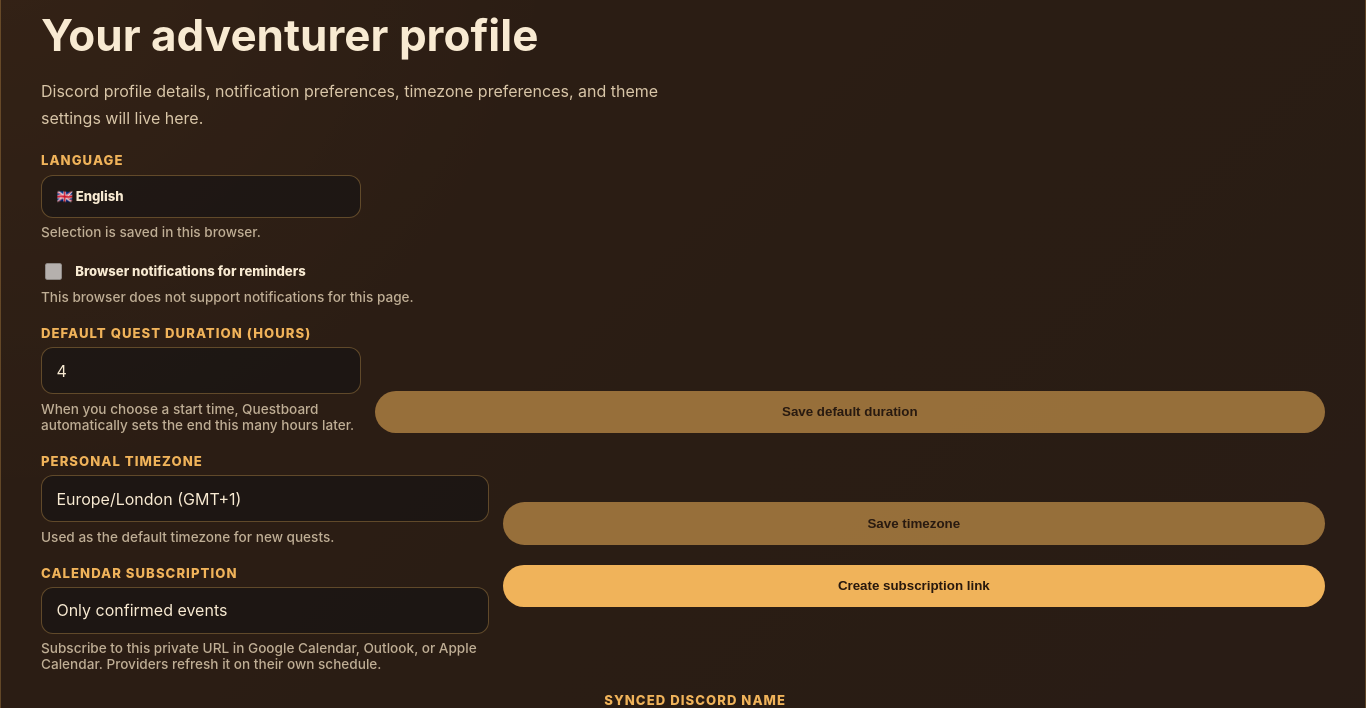
Scenario: ProfilePage › creates a private calendar subscription feed from profile settings
Check: the dropdown labelled "Calendar subscription" shows "Only confirmed events", box [41,587,489,634]
What coordinates should you click on to do the following:
click the button "Create subscription link"
I would click on:
 (914, 586)
Its box is [503,564,1325,607].
(page scrolled)
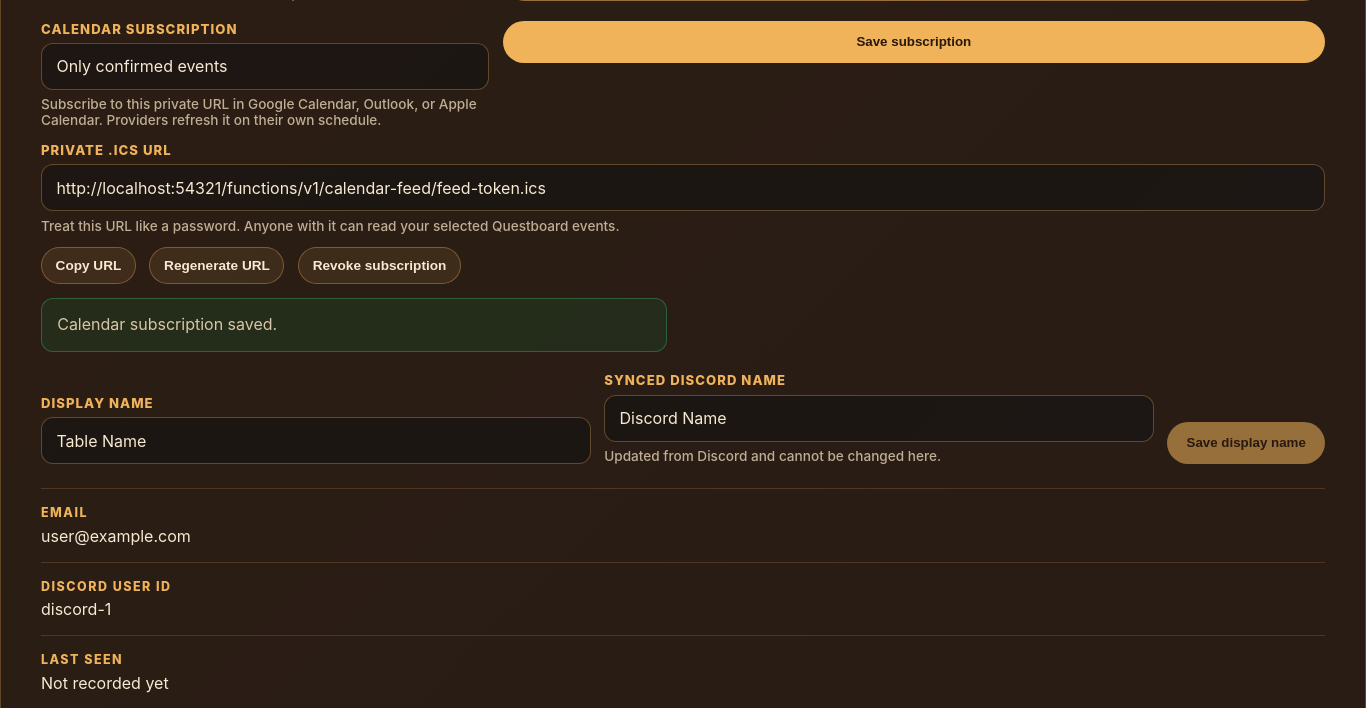
Check: the field labelled "Private .ics URL" holds "http://localhost:54321/functions/v1/calendar-feed/feed-token.ics", box [41,164,1325,211]
Check: the text "Calendar subscription saved." is shown, box [41,298,667,352]
